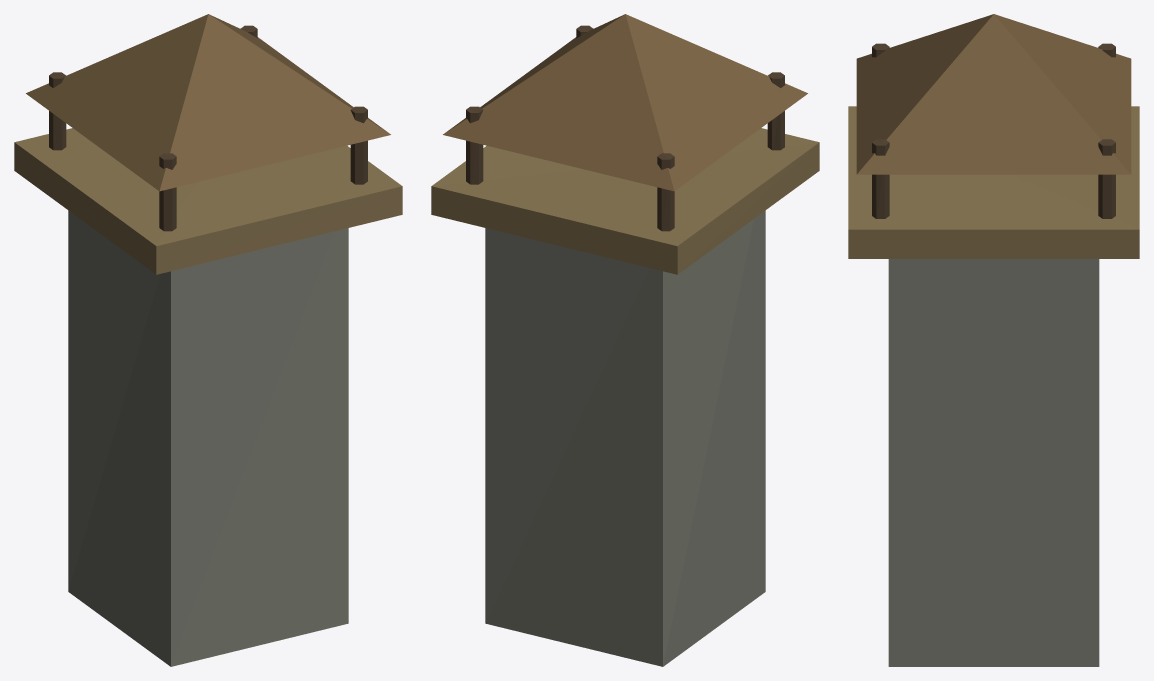
File: abandoned_lookout.glb
3 views of the same model, side by side, from view 1: azimuth 30°, elevation 25°; view 2: azimuth 150°, elevation 25°; view 3: azimuth 270°, elevation 25° (orthographic). The views are drawn at different scales.
Visible parts, largest first — view 1: world-scenery/abandoned_lookout; view 2: world-scenery/abandoned_lookout; view 3: world-scenery/abandoned_lookout.
Part boxes in pixels (x1,y1,x2,y2): world-scenery/abandoned_lookout: [14, 14, 402, 666]; world-scenery/abandoned_lookout: [431, 14, 819, 666]; world-scenery/abandoned_lookout: [848, 14, 1139, 666].
Size of the model in its own units: 1.8 by 4.15 by 1.8.
